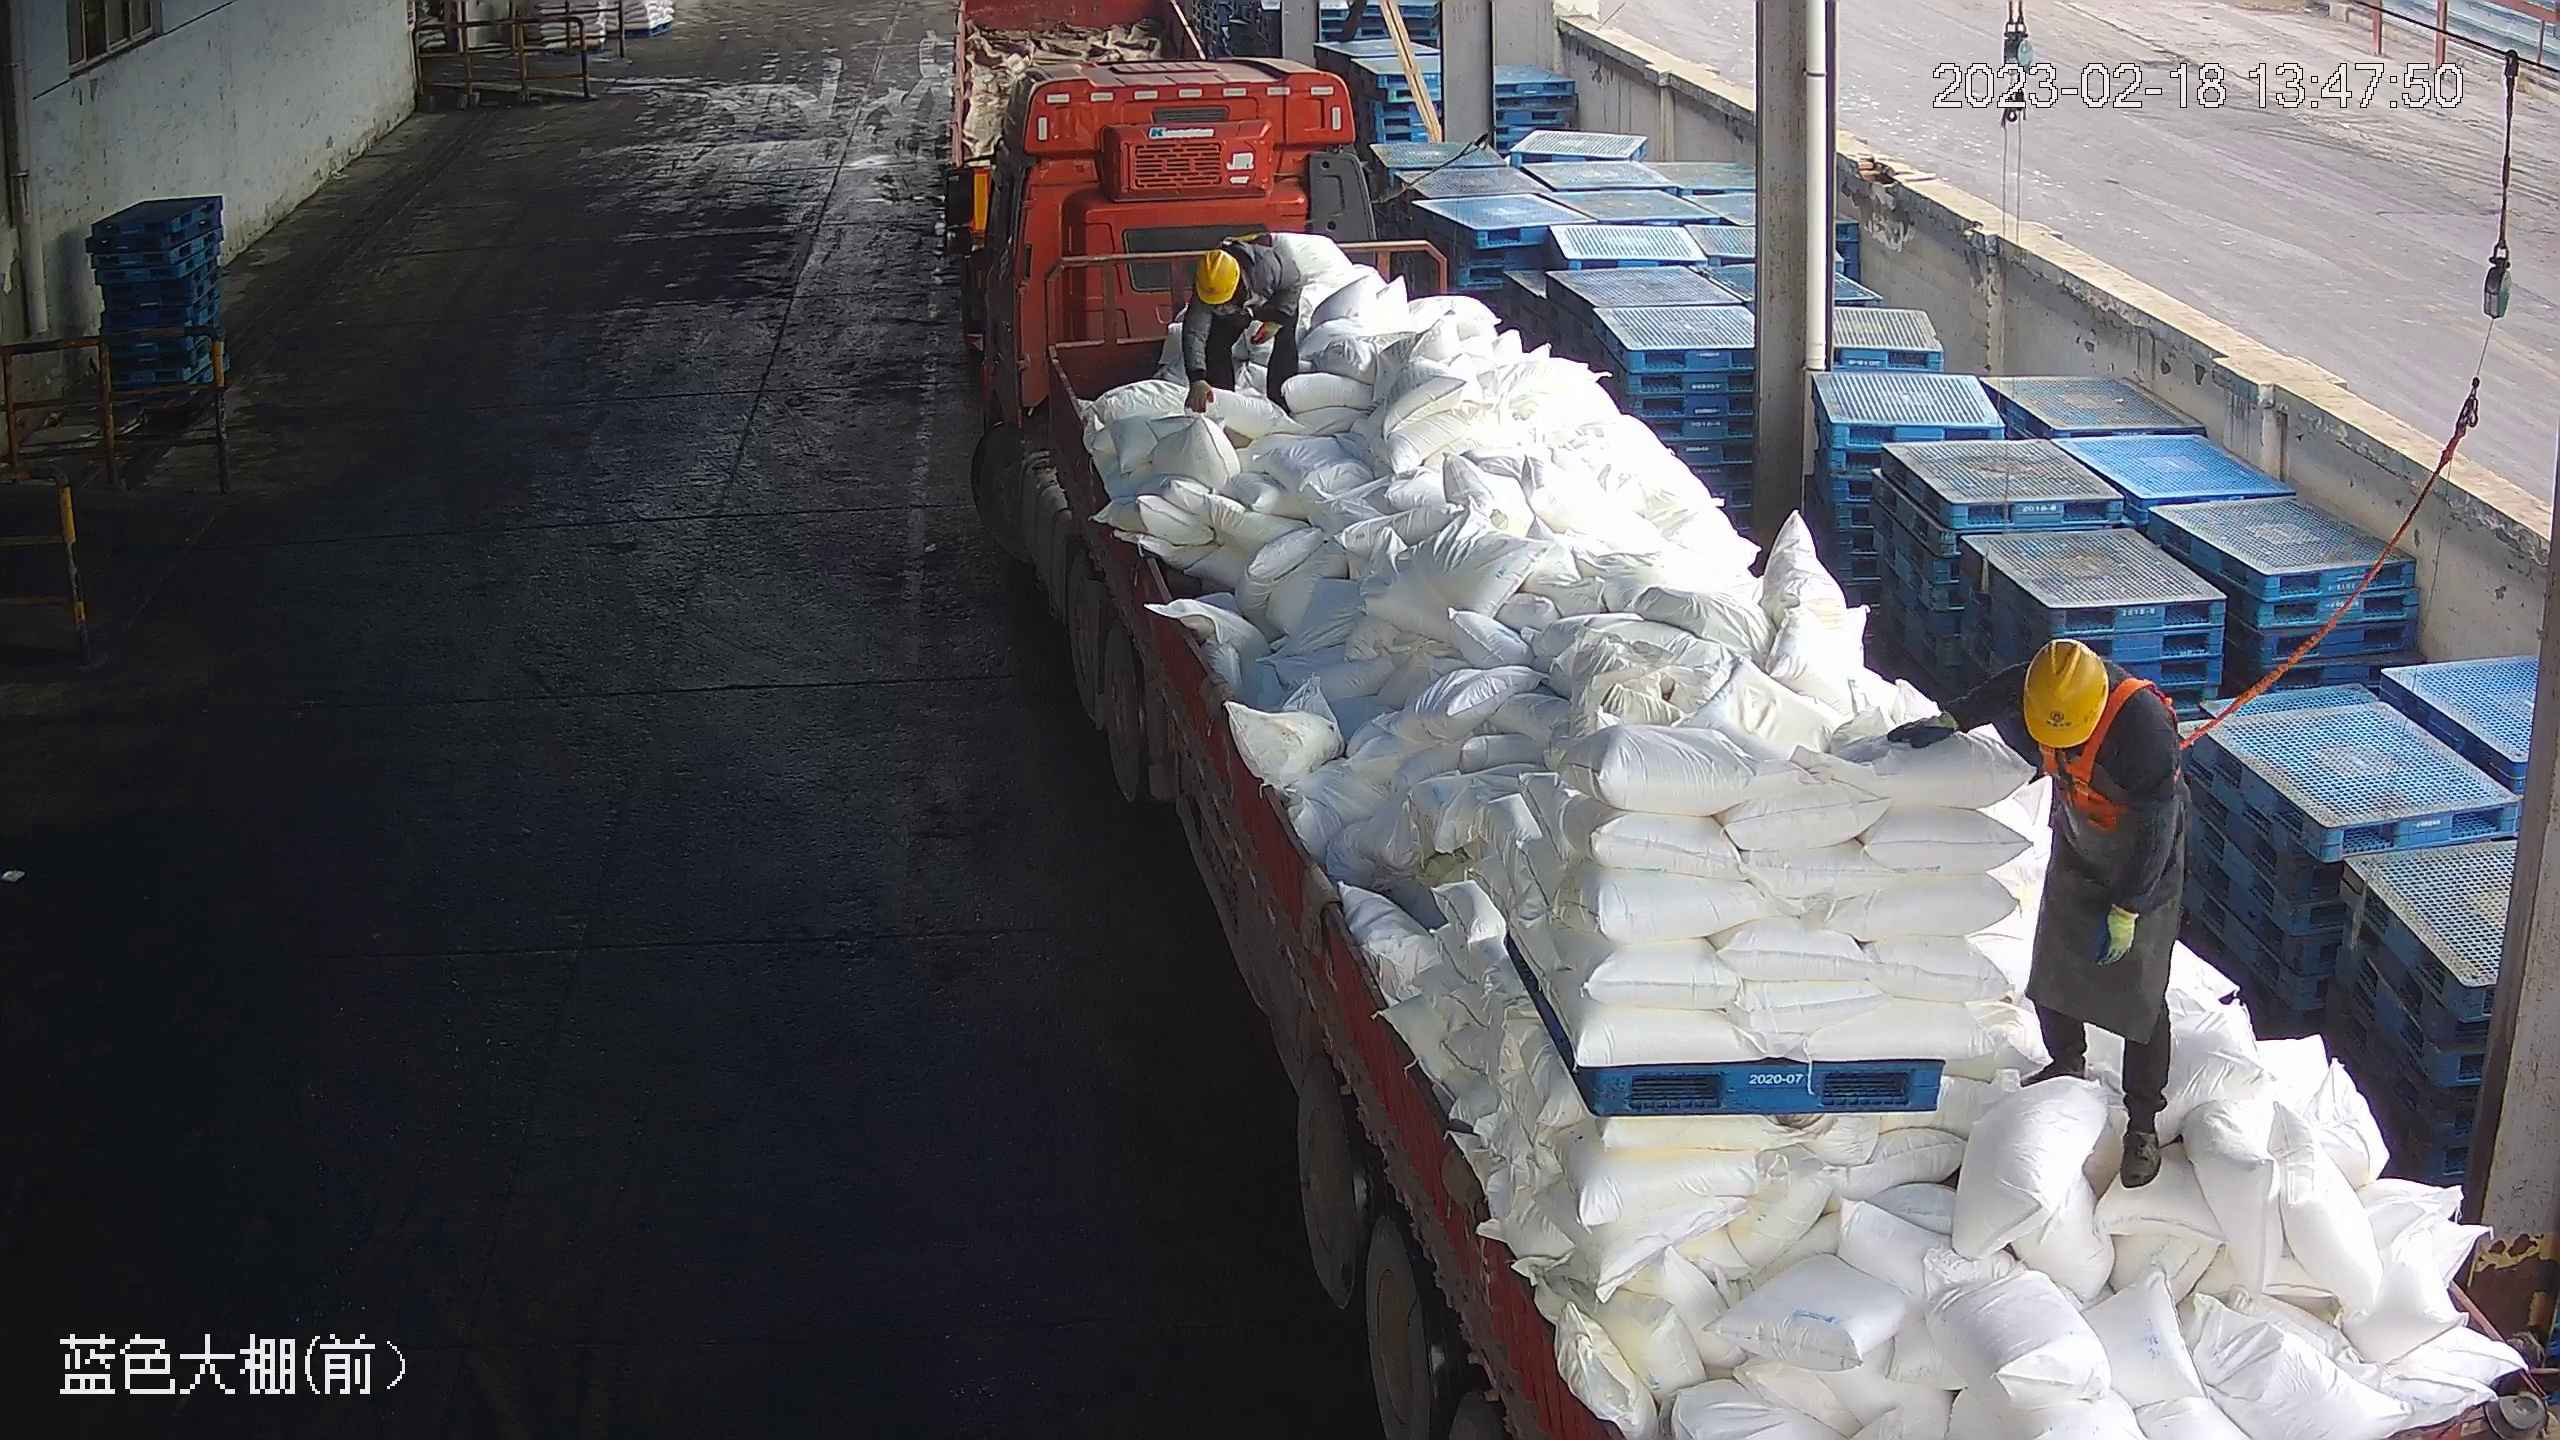belt: (2039, 667, 2191, 831), (1211, 231, 1285, 303)
head: (1994, 635, 2176, 819), (1186, 236, 1285, 318)
helmet: (2020, 636, 2111, 745), (1194, 246, 1244, 304)
people: (1893, 636, 2194, 1193), (1175, 236, 1307, 417)
truck: (948, 42, 2556, 1440)
